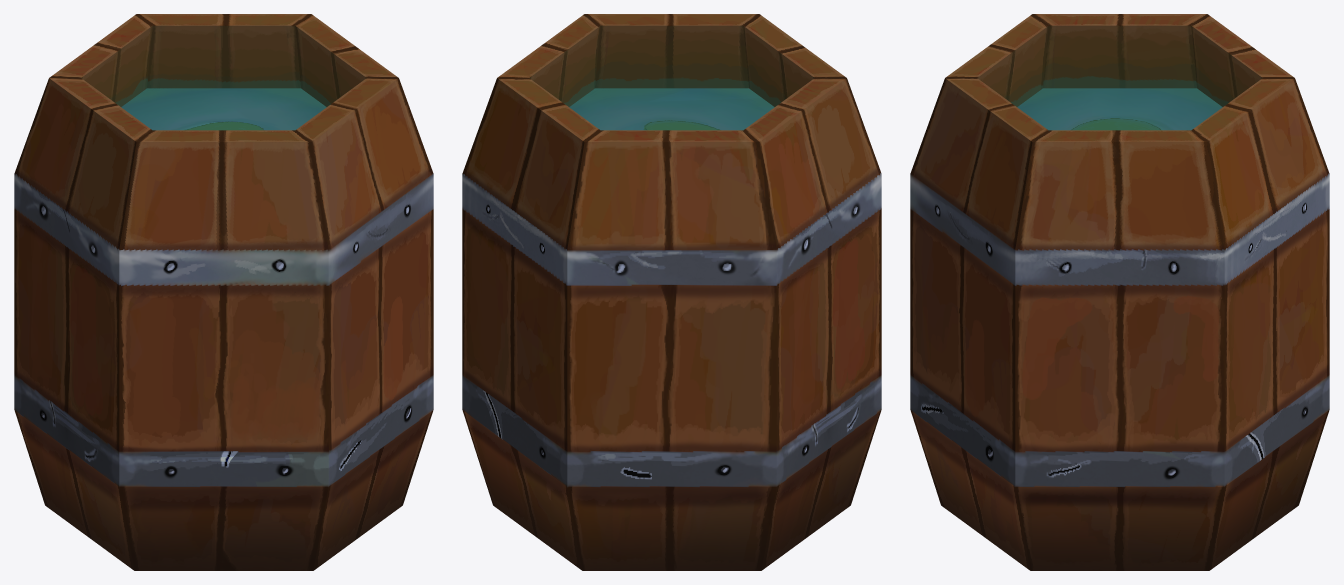
File: barrel.glb
3 renders of one model, left to right at view 1: azimuth 30°, elevation 25°; view 2: azimuth 150°, elevation 25°; view 3: azimuth 270°, elevation 25°, orthographic.
Parts seen in each view (by area): view 1: Cylinder; view 2: Cylinder; view 3: Cylinder.
Part boxes in pixels (x1,y1,x2,y2): Cylinder: [14, 14, 433, 570]; Cylinder: [462, 14, 881, 570]; Cylinder: [910, 14, 1329, 570].
Bounding box in the file's own units: 147 × 191 × 170.
1 material, 1 textured.
